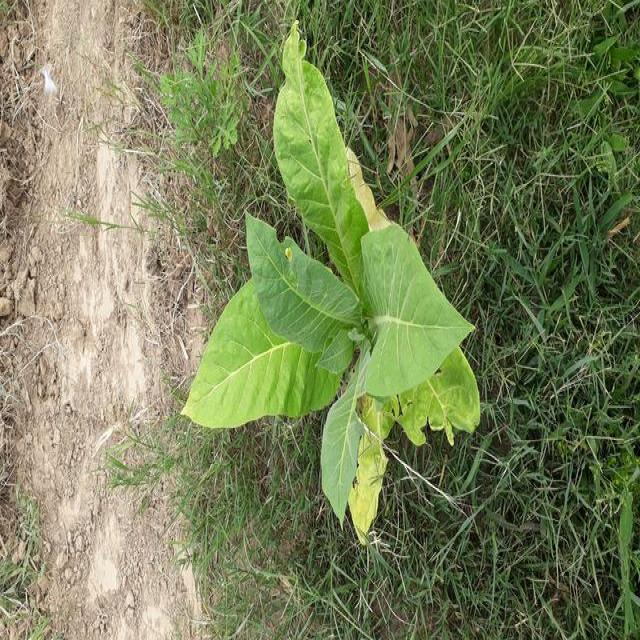crop: (185, 23, 478, 528)
